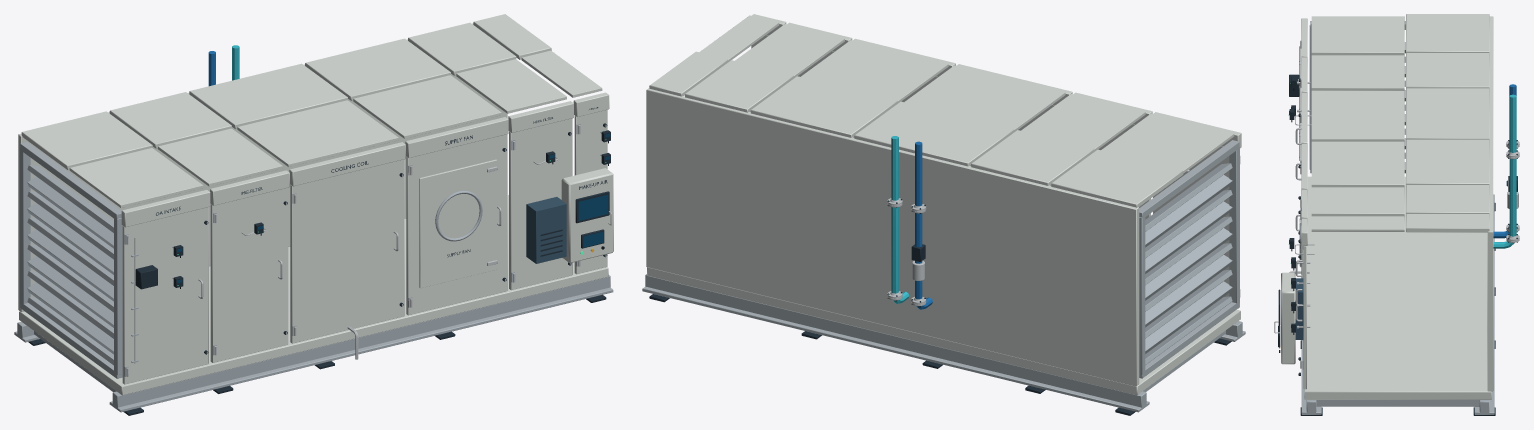
The model's file is fab1-mau.glb.
3 views of the same model, side by side, from view 1: azimuth 30°, elevation 25°; view 2: azimuth 150°, elevation 25°; view 3: azimuth 270°, elevation 25° (orthographic). The views are drawn at different scales.
Parts seen in each view (by area): view 1: MAU_ServicePanel_2, MAU_DamperCassette, MAU_ServicePanel_0, MAU_ServicePanel_1, MAU_BaseChannels, MAU_FanAccessDoor, MAU_InsulatedFloor, MAU_ServicePanel_3, MAU_ServicePanel_4, MAU_RoofInspection_2, MAU_RoofRear_2, MAU_RoofInspection_3 (+20 smaller); view 2: MAU_RearWall, MAU_DamperCassette, MAU_BaseChannels, MAU_InsulatedFloor, MAU_RoofInspection_2, MAU_RoofRear_2, MAU_RoofRear_3, MAU_RoofInspection_3, MAU_RoofRear_0, MAU_RoofInspection_0, MAU_RoofRear_1, MAU_RoofInspection_1 (+7 smaller); view 3: MAU_InsulatedFloor, MAU_RoofInspection_2, MAU_RoofInspection_3, MAU_RoofRear_2, MAU_RoofRear_3, MAU_RoofInspection_0, MAU_RoofInspection_1, MAU_RoofRear_0, MAU_RoofRear_1, MAU_RoofInspection_4, MAU_RoofRear_4, MAU_BaseChannels (+12 smaller).
Part boxes in pixels (left/top/right/bottom): MAU_ServicePanel_2: left=290, top=159, right=404, bottom=343; MAU_DamperCassette: left=20, top=142, right=122, bottom=378; MAU_ServicePanel_0: left=122, top=207, right=208, bottom=384; MAU_ServicePanel_1: left=210, top=188, right=288, bottom=362; MAU_BaseChannels: left=14, top=275, right=613, bottom=415; MAU_FanAccessDoor: left=419, top=159, right=497, bottom=288; MAU_InsulatedFloor: left=19, top=194, right=608, bottom=395; MAU_ServicePanel_3: left=406, top=134, right=507, bottom=315; MAU_ServicePanel_4: left=509, top=118, right=572, bottom=290; MAU_RoofInspection_2: left=237, top=100, right=398, bottom=166; MAU_RoofRear_2: left=189, top=63, right=347, bottom=129; MAU_RoofInspection_3: left=353, top=75, right=501, bottom=138; MAU_RearWall: left=646, top=88, right=1139, bottom=386; MAU_DamperCassette: left=1139, top=140, right=1239, bottom=378; MAU_BaseChannels: left=642, top=274, right=1245, bottom=415; MAU_InsulatedFloor: left=647, top=267, right=1240, bottom=395; MAU_RoofInspection_2: left=904, top=65, right=1065, bottom=131; MAU_RoofRear_2: left=854, top=101, right=1014, bottom=166; MAU_RoofRear_3: left=750, top=76, right=897, bottom=137; MAU_RoofInspection_3: left=801, top=40, right=948, bottom=103; MAU_RoofRear_0: left=1051, top=149, right=1183, bottom=207; MAU_RoofInspection_0: left=1101, top=113, right=1234, bottom=173; MAU_RoofRear_1: left=971, top=130, right=1094, bottom=185; MAU_RoofInspection_1: left=1021, top=94, right=1145, bottom=151; MAU_InsulatedFloor: left=1304, top=176, right=1491, bottom=399; MAU_RoofInspection_2: left=1311, top=90, right=1404, bottom=141; MAU_RoofInspection_3: left=1311, top=141, right=1404, bottom=187; MAU_RoofRear_2: left=1406, top=88, right=1489, bottom=139; MAU_RoofRear_3: left=1406, top=139, right=1489, bottom=184; MAU_RoofInspection_0: left=1311, top=16, right=1404, bottom=55; MAU_RoofInspection_1: left=1311, top=55, right=1404, bottom=90; MAU_RoofRear_0: left=1406, top=14, right=1489, bottom=52; MAU_RoofRear_1: left=1406, top=53, right=1489, bottom=88; MAU_RoofInspection_4: left=1311, top=187, right=1404, bottom=216; MAU_RoofRear_4: left=1406, top=185, right=1489, bottom=213; MAU_BaseChannels: left=1300, top=194, right=1495, bottom=415.
Size of the model in its own units: 8 by 3.55 by 3.8.
3 materials, 1 textured.
